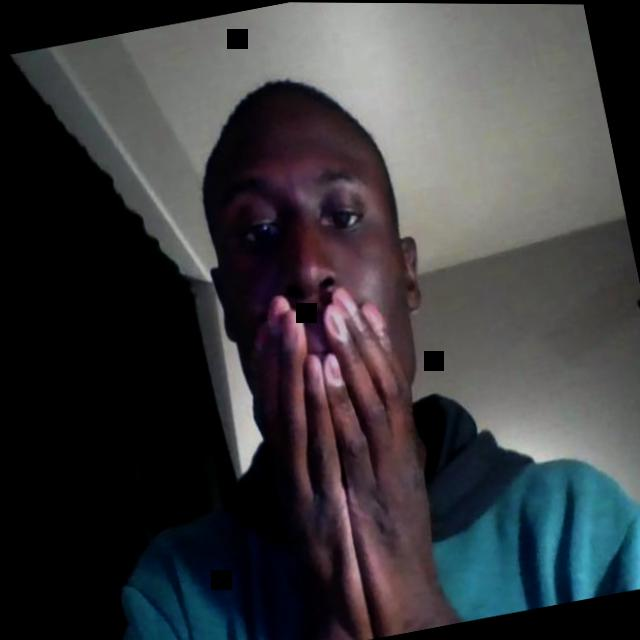NO-Mask: (196, 132, 429, 428)
